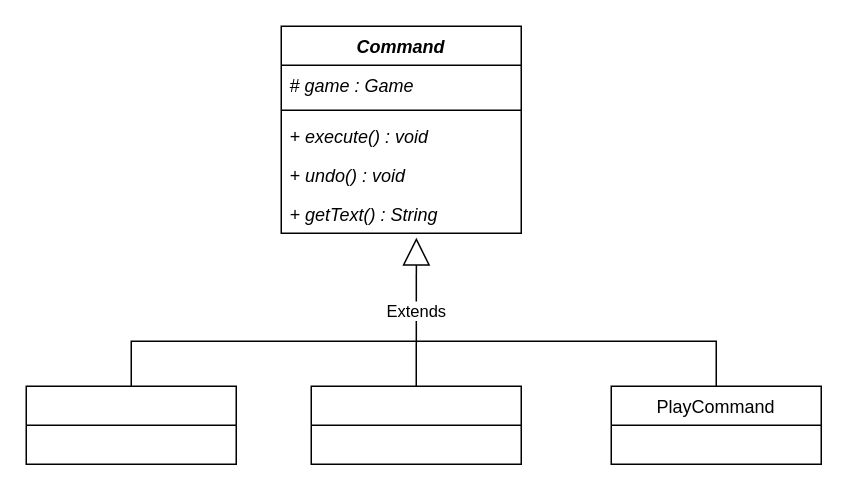
Image size: 848x491. Some labels were removed from this diagram. The centre of each missing label's shape, as x and y in pixels:
"ExitCommand" belongs at point (130, 424).
"InstructionsCommand" belongs at point (415, 424).
